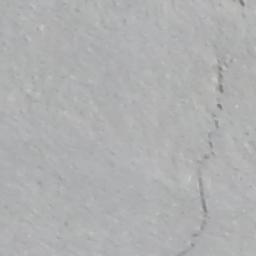Hairline-Crack: (177, 0, 254, 256)
